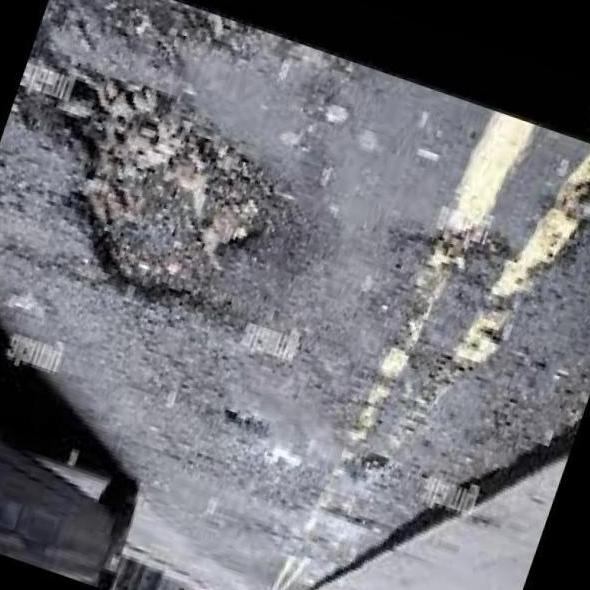pothole: (17, 63, 307, 348)
